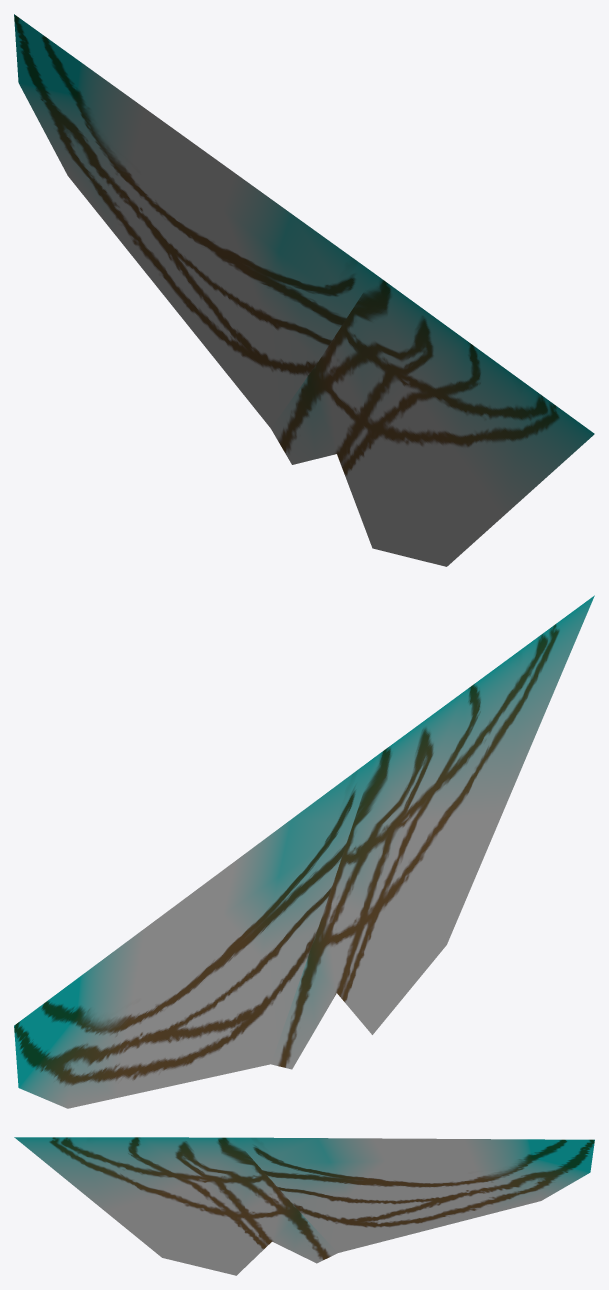
File: SM_Rope_A05.gltf
3 views of the same model, one above another, from view 1: azimuth 30°, elevation 25°; view 2: azimuth 150°, elevation 25°; view 3: azimuth 270°, elevation 25° (orthographic). The views are drawn at different scales.
Visible parts, largest first — view 1: SM_Rope_A05_LOD0; view 2: SM_Rope_A05_LOD0; view 3: SM_Rope_A05_LOD0.
Part boxes in pixels (left/top/right/bottom): SM_Rope_A05_LOD0: left=14, top=14, right=594, bottom=566; SM_Rope_A05_LOD0: left=14, top=595, right=594, bottom=1108; SM_Rope_A05_LOD0: left=14, top=1137, right=594, bottom=1275.
Size of what is drawn, in the model's own units: 1.6e-07 by 2.31 by 8.78.
Materials: 1 (1 with a texture image).
